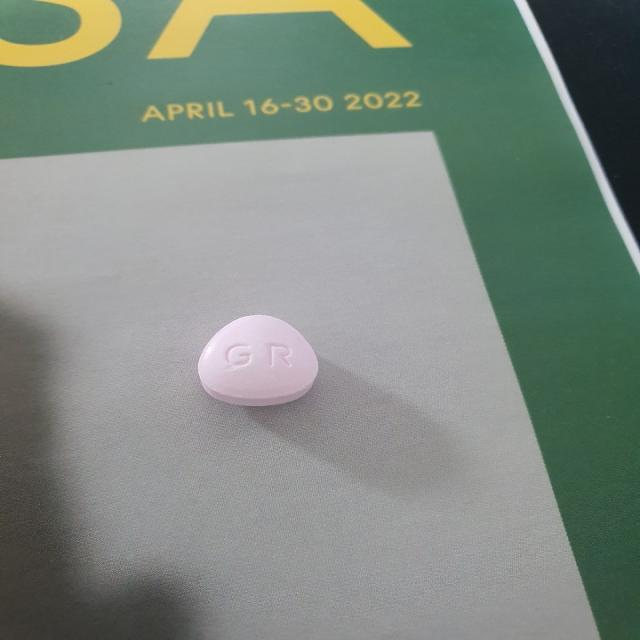pill: (174, 301, 337, 426)
